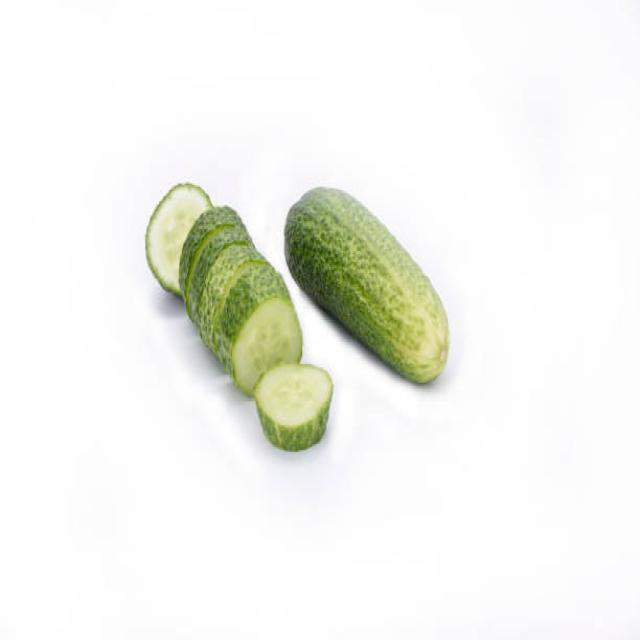cucumber: (284, 182, 450, 387)
